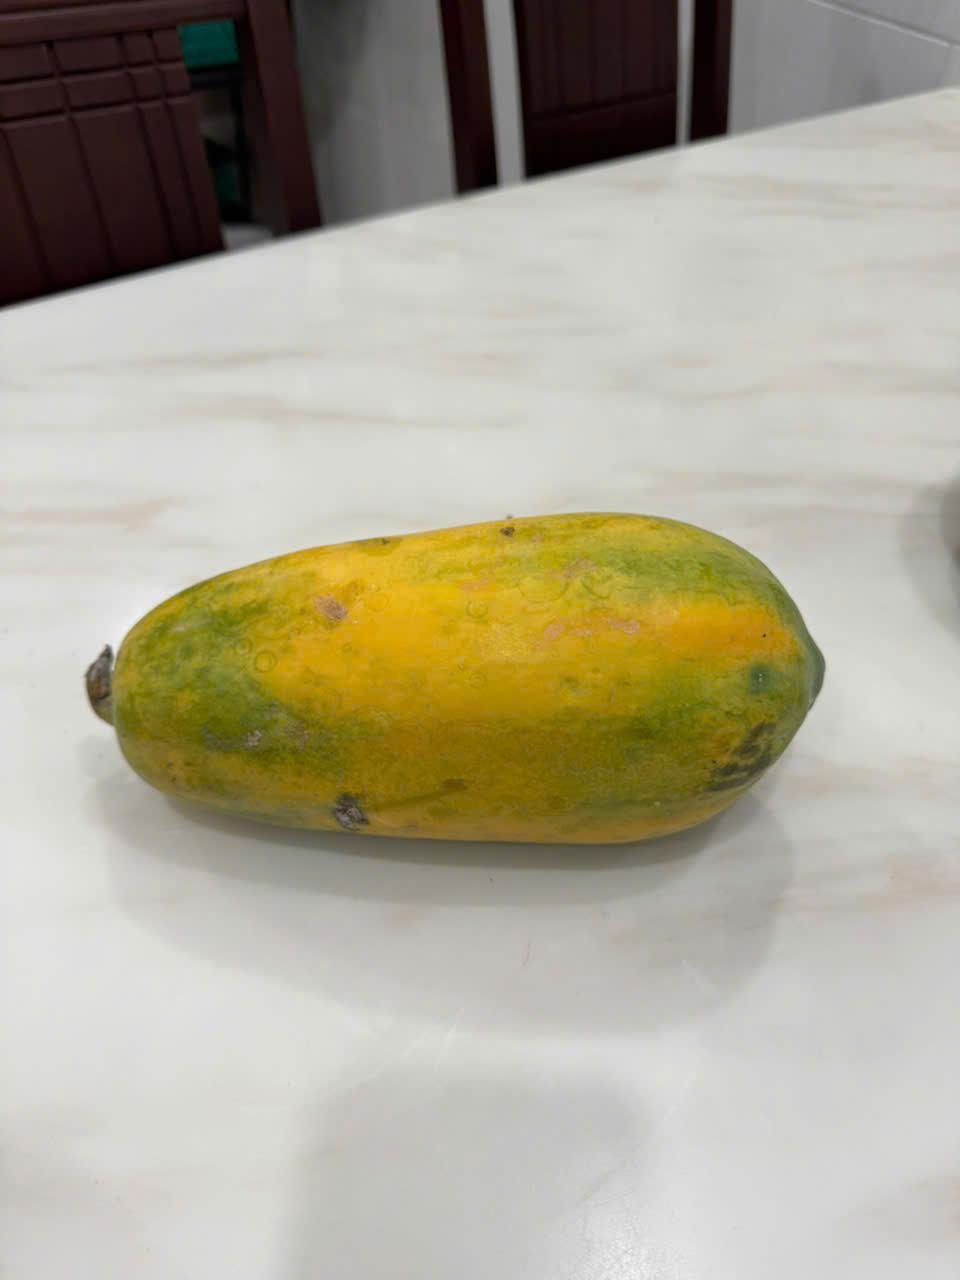papaya: (68, 486, 849, 891)
